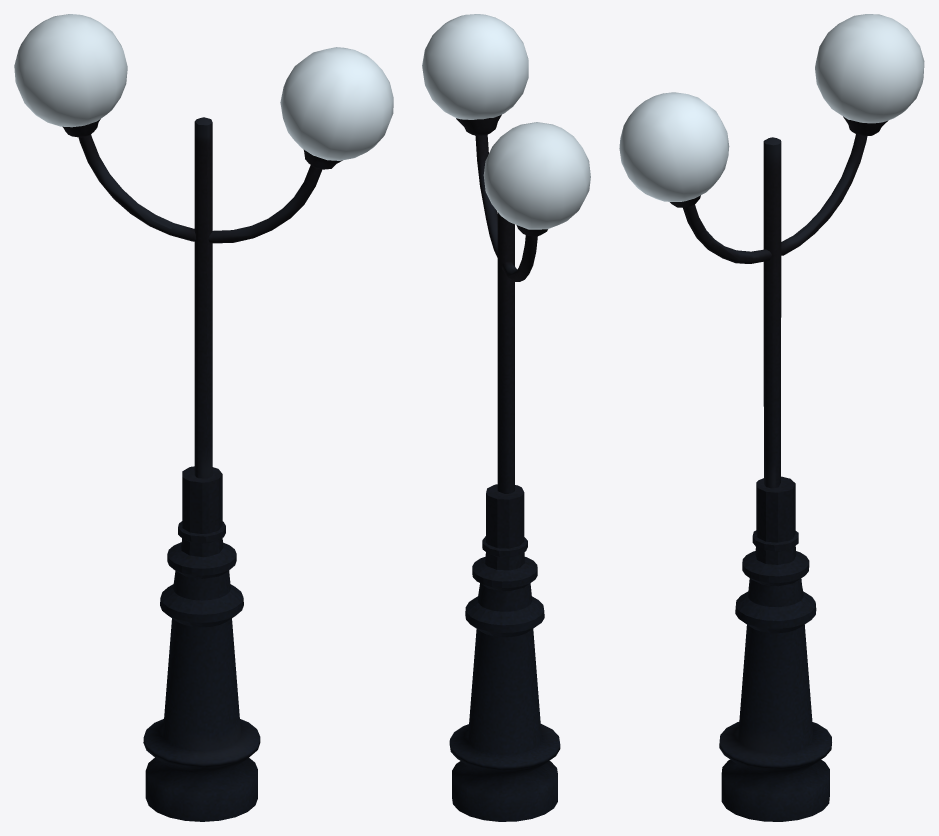
3 views of the same model, side by side, from view 1: azimuth 30°, elevation 25°; view 2: azimuth 150°, elevation 25°; view 3: azimuth 270°, elevation 25° (orthographic). The views are drawn at different scales.
Visible parts, largest first — view 1: pCylinder87_001; view 2: pCylinder87_001; view 3: pCylinder87_001.
Boxes of the visible parts, x1,y1,x2,y2 form: pCylinder87_001: (14,14,393,821); pCylinder87_001: (422,14,590,821); pCylinder87_001: (619,14,924,821).
Bounding box in the file's own units: 106 × 295 × 110.
Materials: 1 (1 with a texture image).
